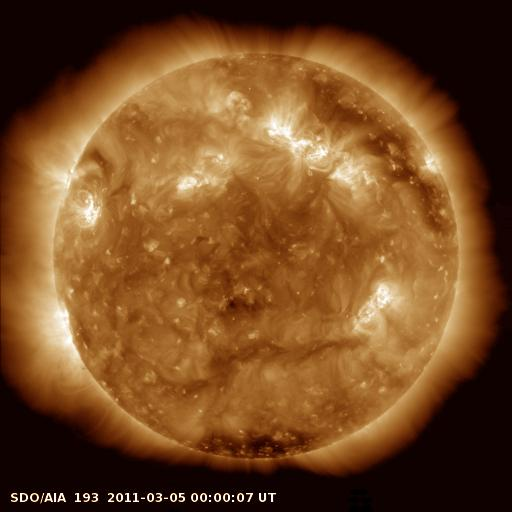coronal_hole: (298, 62, 455, 228), (190, 423, 323, 464)
